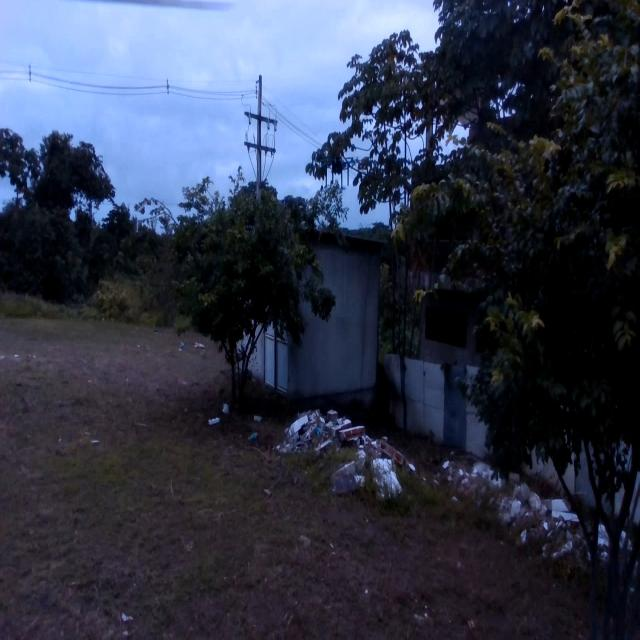-uav-: (318, 150, 356, 192)
